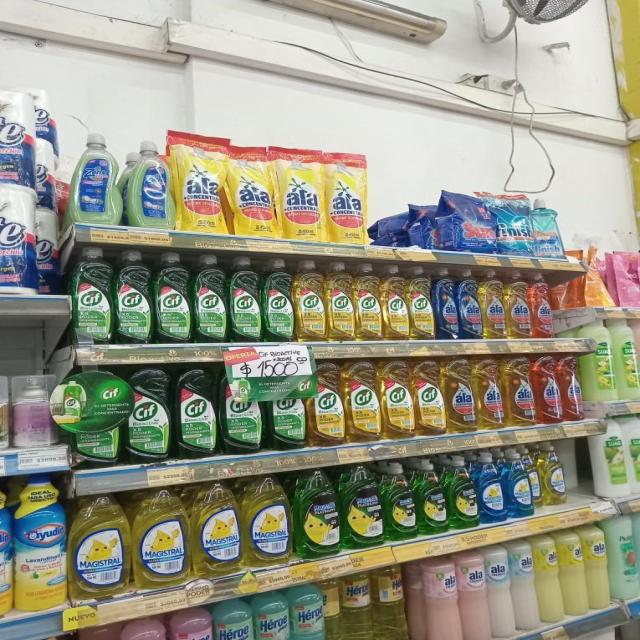ala_conc_amarillo: (444, 358, 474, 433), (504, 355, 534, 427), (476, 356, 503, 430), (481, 269, 505, 340), (506, 270, 530, 340)
ala_conc_azul: (434, 268, 458, 340), (458, 268, 481, 340)
ala_conc_rojo: (534, 354, 560, 425), (530, 272, 555, 339), (561, 353, 583, 422)
ala_crem_amarillo: (560, 528, 586, 618), (536, 533, 561, 625), (586, 522, 609, 611)
ala_crem_blanco: (488, 544, 513, 639), (512, 540, 537, 634)
ala_crem_rosado: (418, 555, 459, 640), (459, 550, 488, 640)
ala_sachet_amarillo: (174, 132, 227, 234), (229, 144, 277, 238), (280, 148, 325, 241), (328, 151, 366, 244)
cif_conc_bot_amarilla: (309, 362, 344, 447), (345, 361, 379, 444), (381, 360, 413, 440), (294, 260, 324, 341), (414, 359, 444, 437), (326, 261, 353, 341), (354, 263, 380, 341), (382, 264, 408, 341), (408, 265, 433, 340)
cif_conc_botella_verde: (126, 366, 172, 464), (174, 365, 218, 459), (71, 247, 113, 345), (220, 370, 264, 454), (115, 249, 152, 345), (154, 252, 191, 344), (193, 254, 227, 343), (228, 255, 260, 342), (262, 258, 293, 342), (267, 394, 306, 450)
heroe: (373, 563, 410, 640), (336, 569, 372, 640), (290, 581, 326, 640), (254, 590, 290, 640), (215, 597, 253, 640), (170, 606, 214, 640), (121, 616, 168, 640), (77, 622, 120, 640)
magistral_con_amarillo: (70, 493, 129, 599), (133, 486, 188, 588), (191, 480, 241, 578), (244, 475, 291, 566), (540, 442, 568, 508)
magistral_con_azul: (505, 448, 532, 519), (478, 452, 503, 524)
